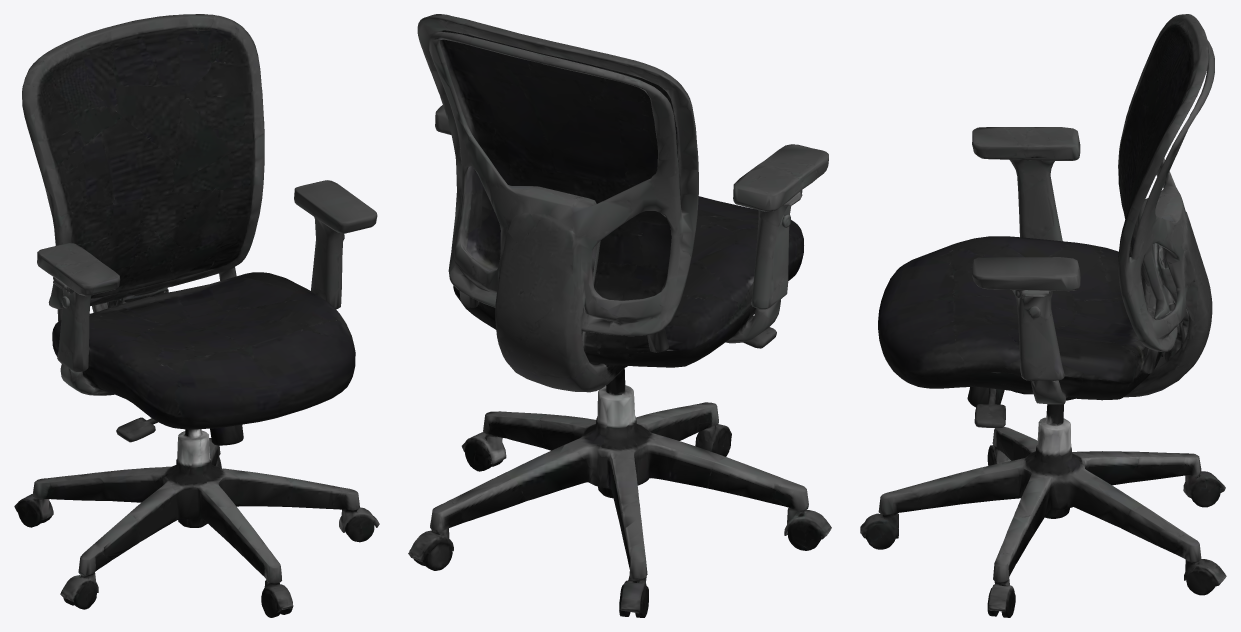
The model's file is chair.glb.
3 views of the same model, side by side, from view 1: azimuth 30°, elevation 25°; view 2: azimuth 150°, elevation 25°; view 3: azimuth 270°, elevation 25° (orthographic). The views are drawn at different scales.
Bounding box in the file's own units: 1.31 × 1.9 × 1.27.
Materials: 1 (1 with a texture image).
